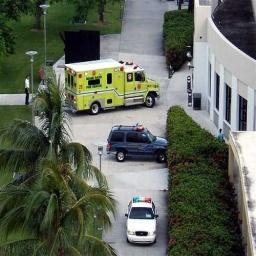Ambulance: (65, 59, 159, 114)
